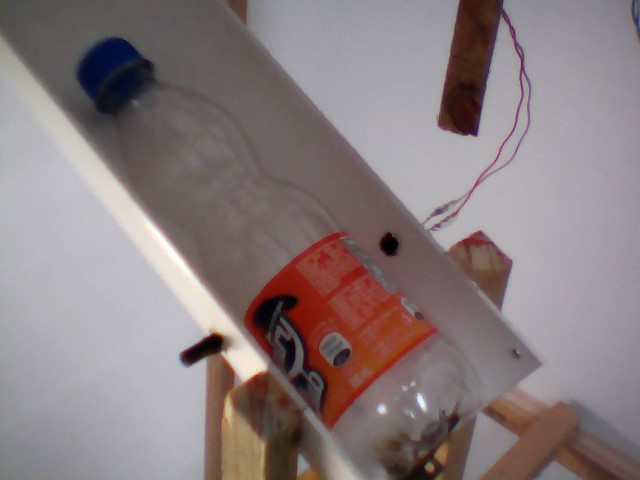plastico: (70, 28, 488, 480)
